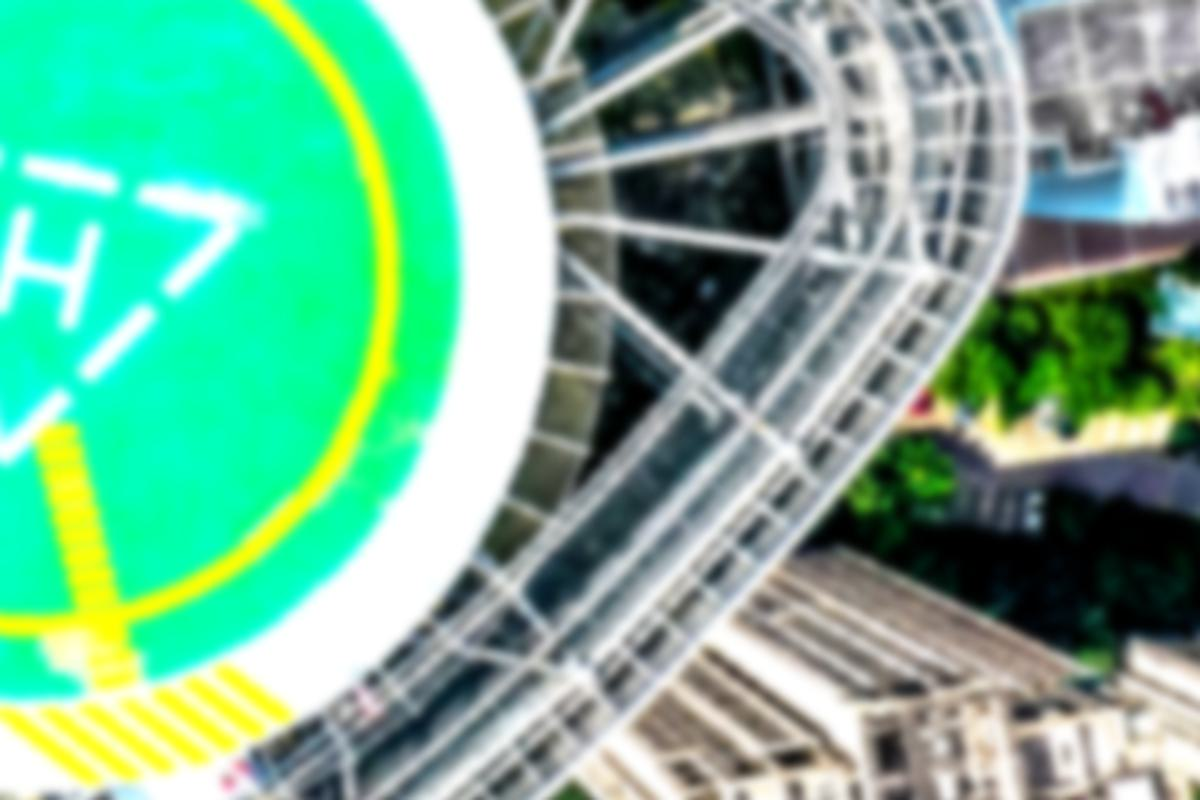Apron: (1, 3, 400, 647)
